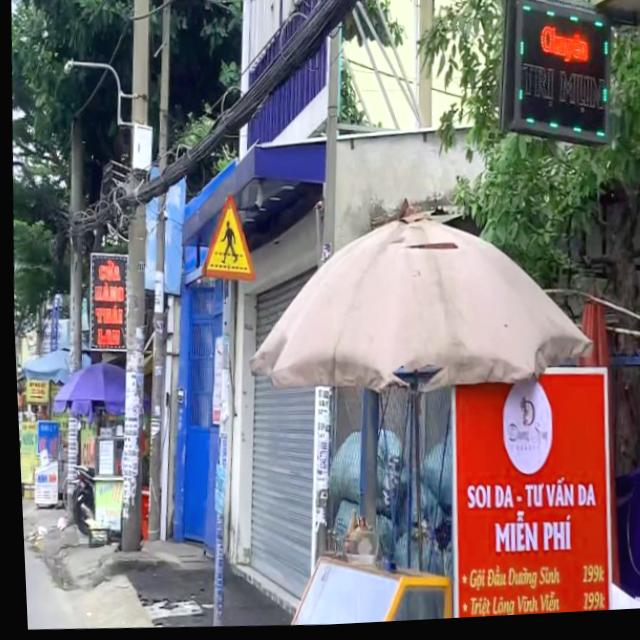Nguoi di bo cat ngang: (195, 193, 255, 286)
